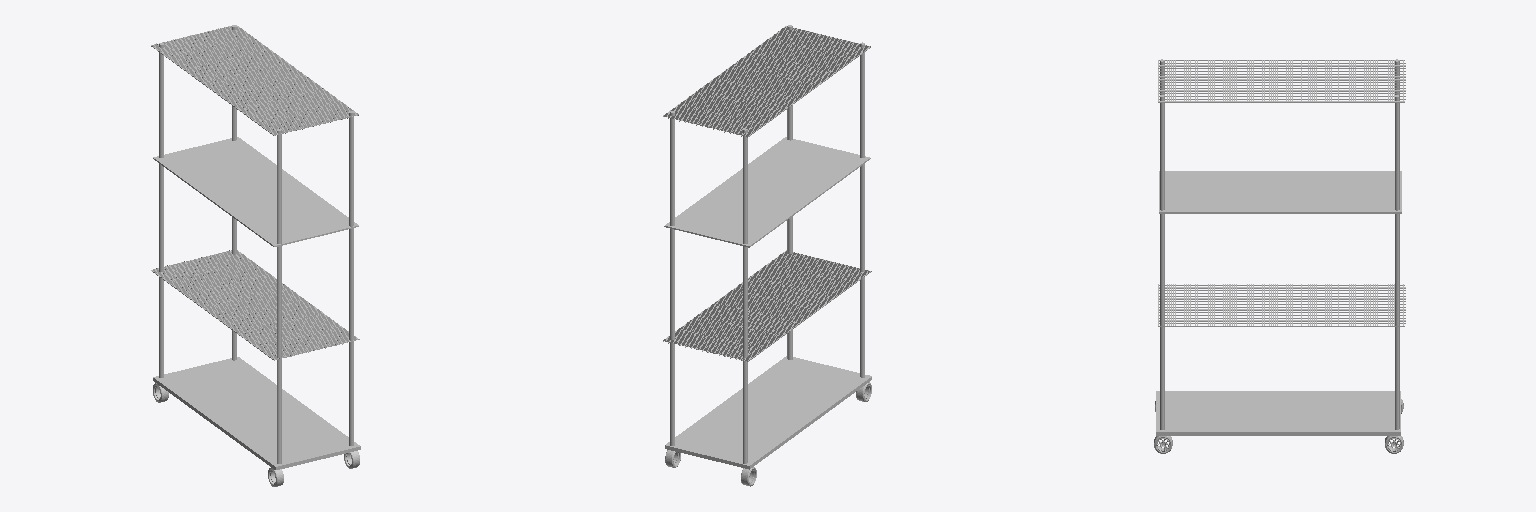
Rendered from anaquel2.obj.
The picture shows the model from 3 angles: view 1: azimuth 30°, elevation 25°; view 2: azimuth 150°, elevation 25°; view 3: azimuth 270°, elevation 25°; orthographic projection.
Visible parts, largest first — view 1: anaquel2_Plane.001, Cube_Cube.001, Cube_Cube.002, Plane.001_Plane.000, Cylinder.007_Cylinder.005, Cylinder.010_Cylinder.012, Cylinder.008_Cylinder.006; view 2: anaquel2_Plane.001, Cube_Cube.001, Cube_Cube.002, Plane.001_Plane.000, Cylinder.009_Cylinder.011, Cylinder.008_Cylinder.006, Cylinder.010_Cylinder.012, Cylinder.007_Cylinder.005; view 3: anaquel2_Plane.001, Plane.001_Plane.000, Cube_Cube.001, Cube_Cube.002, Cylinder.007_Cylinder.005, Cylinder.009_Cylinder.011.
Boxes of the visible parts, <box> form: anaquel2_Plane.001: <box>153,357,360,469</box>; Cube_Cube.001: <box>151,26,358,135</box>; Cube_Cube.002: <box>151,250,359,360</box>; Plane.001_Plane.000: <box>153,137,358,246</box>; Cylinder.007_Cylinder.005: <box>349,111,353,445</box>; Cylinder.010_Cylinder.012: <box>277,129,281,463</box>; Cylinder.008_Cylinder.006: <box>159,43,163,377</box>; anaquel2_Plane.001: <box>665,356,871,469</box>; Cube_Cube.001: <box>663,26,870,137</box>; Cube_Cube.002: <box>663,250,871,361</box>; Plane.001_Plane.000: <box>664,137,870,247</box>; Cylinder.009_Cylinder.011: <box>670,111,674,445</box>; Cylinder.008_Cylinder.006: <box>743,128,747,463</box>; Cylinder.010_Cylinder.012: <box>860,42,864,377</box>; Cylinder.007_Cylinder.005: <box>787,25,792,359</box>; anaquel2_Plane.001: <box>1156,391,1400,435</box>; Plane.001_Plane.000: <box>1159,171,1401,213</box>; Cube_Cube.001: <box>1158,60,1405,102</box>; Cube_Cube.002: <box>1158,284,1405,326</box>; Cylinder.007_Cylinder.005: <box>1160,95,1164,429</box>; Cylinder.009_Cylinder.011: <box>1395,95,1399,429</box>.
Bounding box in the file's own units: 1.26 × 5 × 3.2.